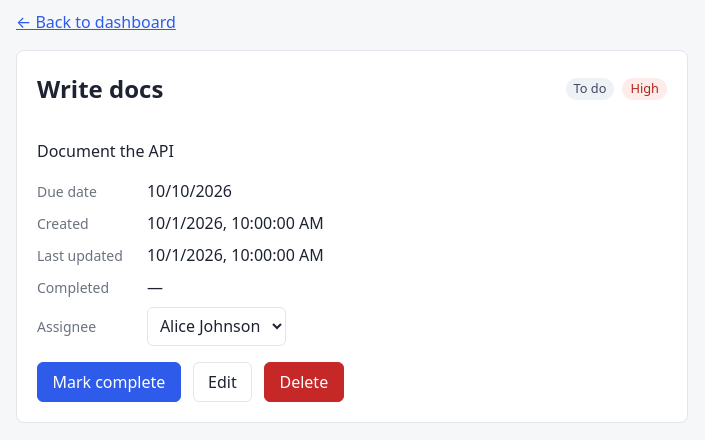
Test case: TaskDetailsPage › marks the task complete and shows the new status
Expected: the heading "Write docs" is shown, [37,71,163,107]
Click the button "Mark complete" at (109, 382), box [37,362,181,402]
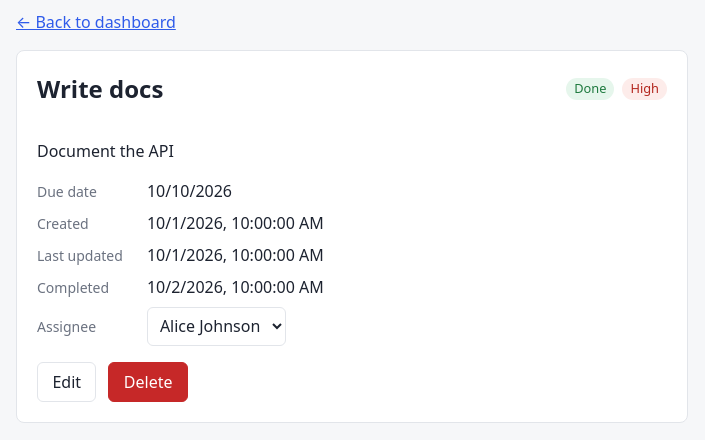
Now the text "Done" is shown, box [566,78,614,100]
Now the button "Mark complete" is gone
